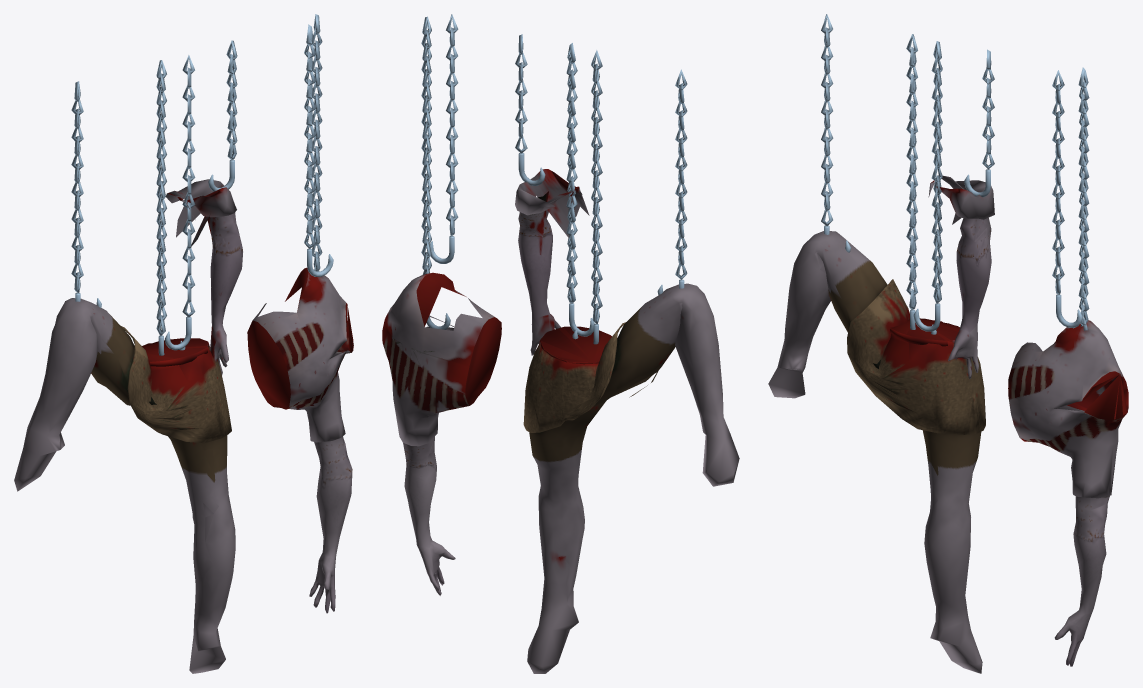
The model's file is mm6_deco_corpse14.glb.
The picture shows the model from 3 angles, left to right: view 1: azimuth 30°, elevation 25°; view 2: azimuth 150°, elevation 25°; view 3: azimuth 330°, elevation 25°; orthographic projection.
Parts seen in each view (by area): view 1: Corpse14; view 2: Corpse14; view 3: Corpse14.
Boxes of the visible parts, bbox=[...] form: Corpse14: bbox=[14, 14, 353, 673]; Corpse14: bbox=[382, 14, 739, 673]; Corpse14: bbox=[768, 14, 1128, 673].
Size of the model in its own units: 1.13 by 1.98 by 0.2656.
3 materials, 3 textured.
